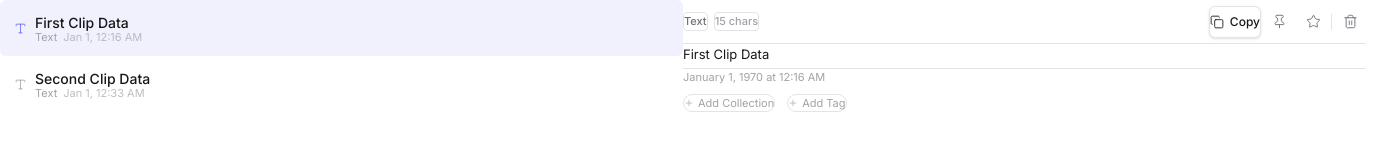
Test case: Clipboard Integration › selects an item in the list and shows it in the preview
This screenshot has width=1378, height=160.
Click the option with test id "clip-2" at (82, 85), box [14,70,150,100]
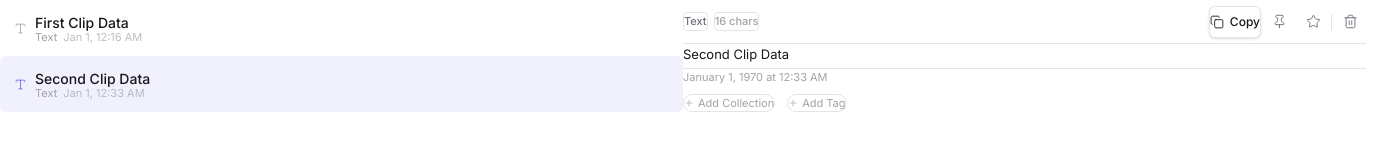
Result: the element with test id "clipboard-preview" shows "Second Clip Data" at [683,46,789,62]
Select clip 1
Click the option with test id "clip-1" at (78, 29), box [14,14,142,44]
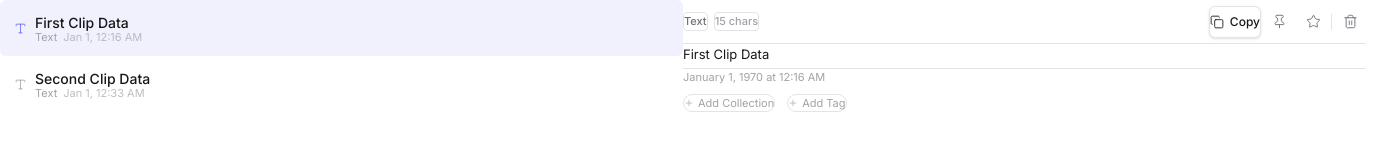
Result: the element with test id "clipboard-preview" shows "First Clip Data" at [683,46,769,62]
